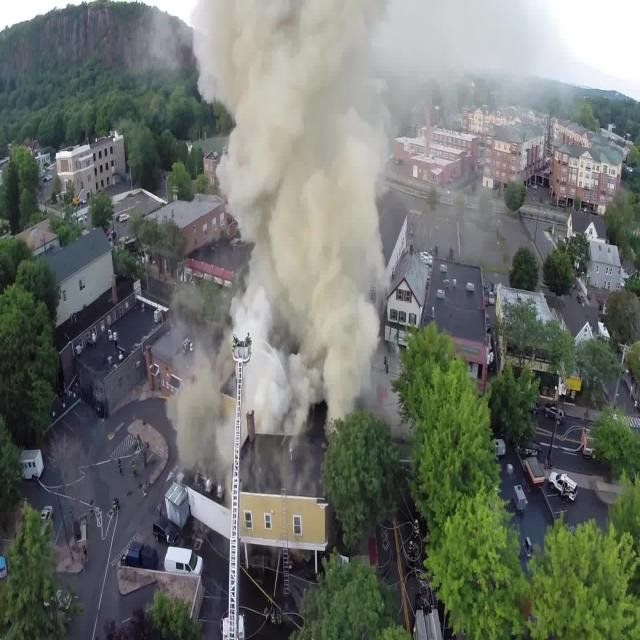Smoke: (187, 1, 393, 502)
